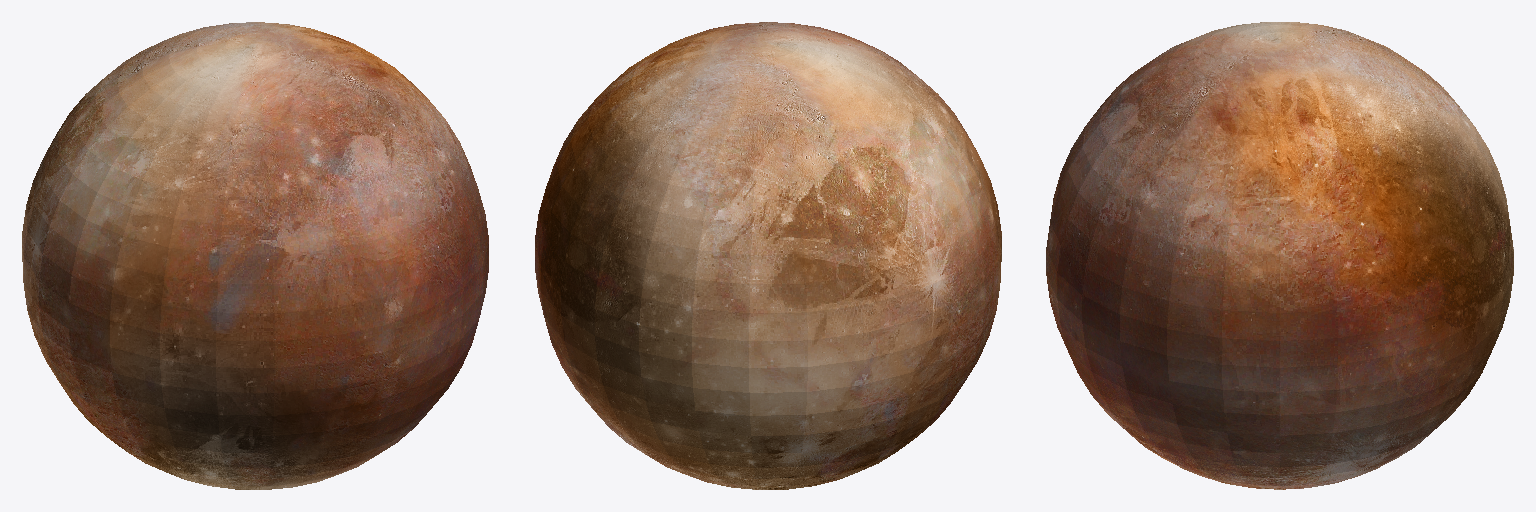
The picture shows the model from 3 angles: view 1: azimuth 30°, elevation 25°; view 2: azimuth 150°, elevation 25°; view 3: azimuth 270°, elevation 25°; orthographic projection.
Parts seen in each view (by area): view 1: pluto; view 2: pluto; view 3: pluto.
Part boxes in pixels (x1,y1,x2,y2): pluto: (22,22,488,489); pluto: (535,22,1001,489); pluto: (1046,22,1513,489).
Size of the model in its own units: 38.71 by 38.94 by 38.78.
Materials: 1 (1 with a texture image).